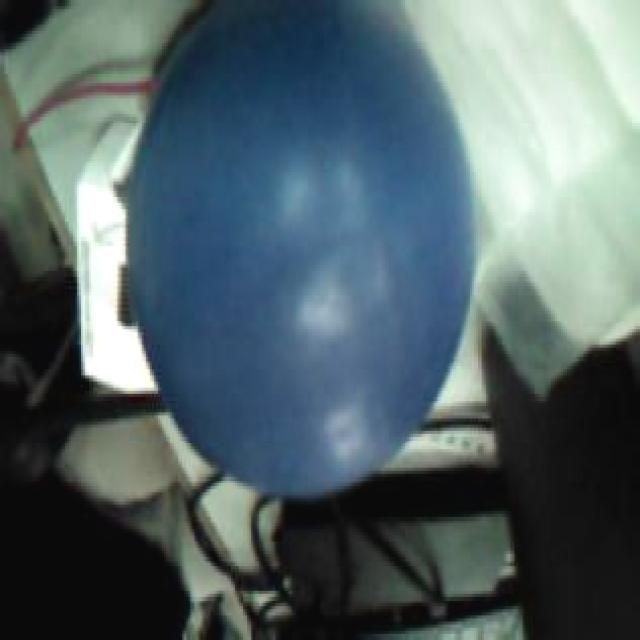BallPurple: (127, 3, 475, 496)
